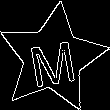M_N: (25, 29, 80, 87)
